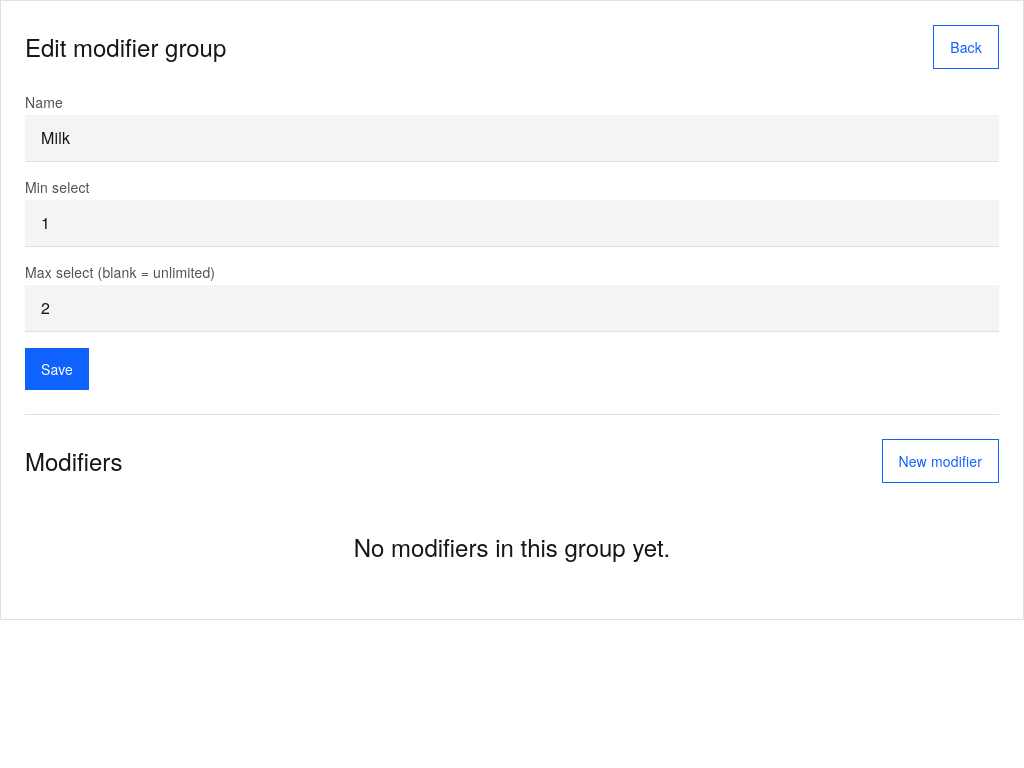
ModifierGroupEditor › rejects a non-numeric min select
Replace the text in the field labelled "Min select" with "abc" at point(512, 224), box [25, 200, 999, 247]
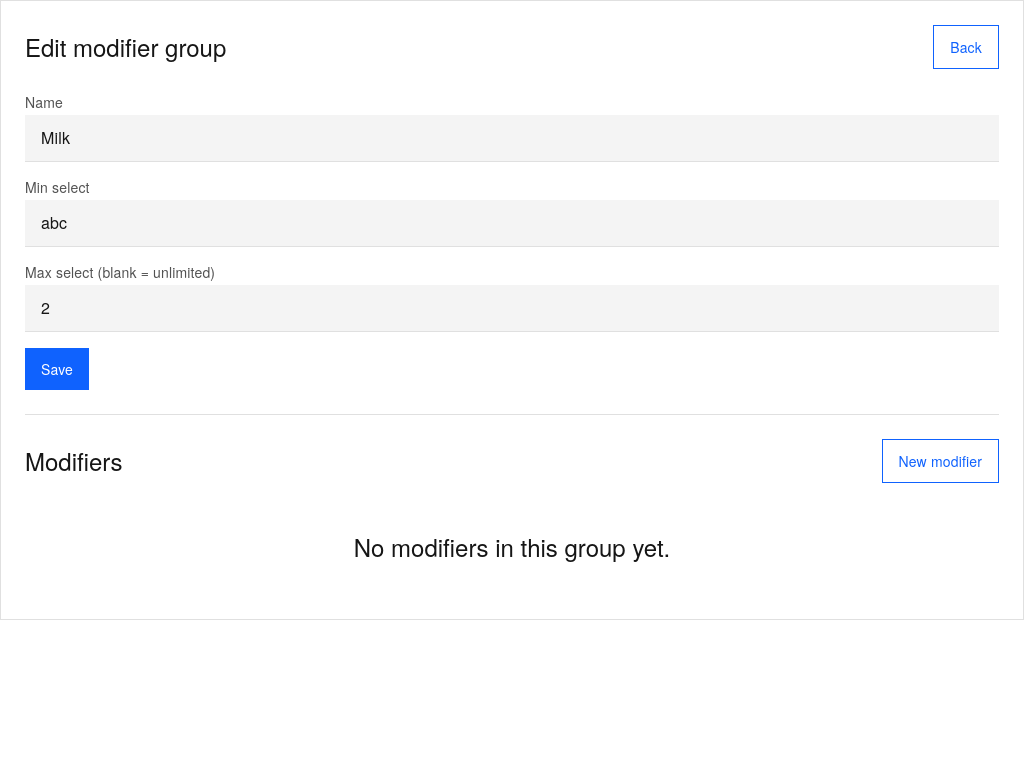
Click the button "Save" at point(57, 369), box [25, 348, 89, 390]
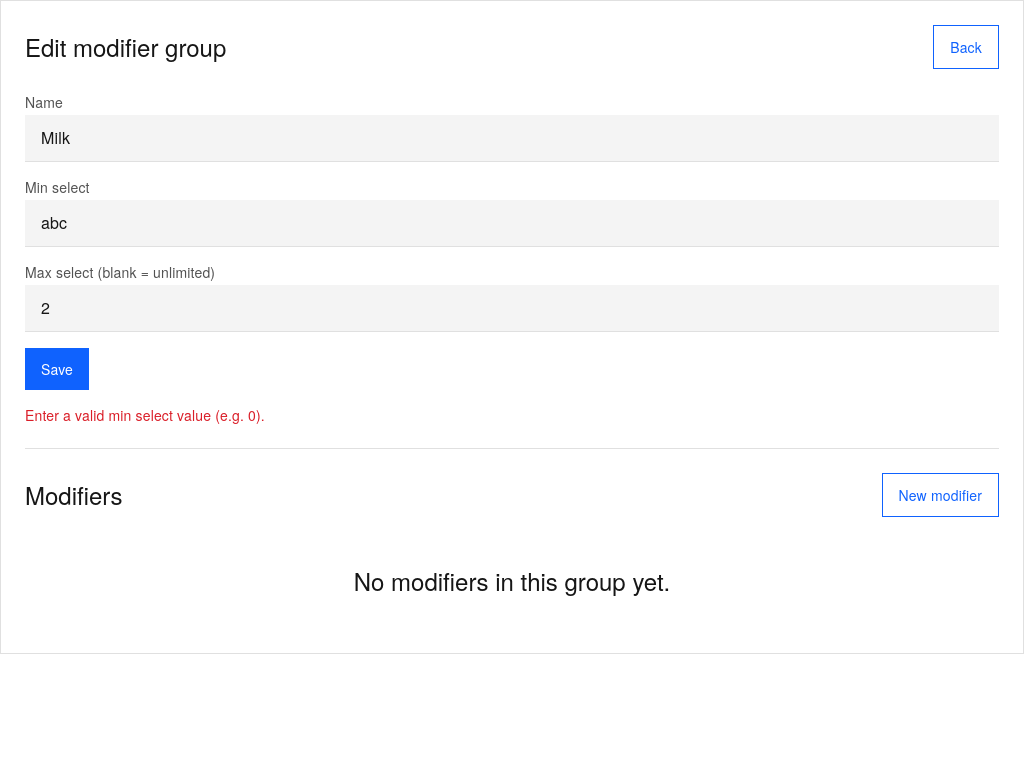
Expected: the text "Enter a valid min select value (e.g. 0)." is shown, [25, 405, 265, 425]
